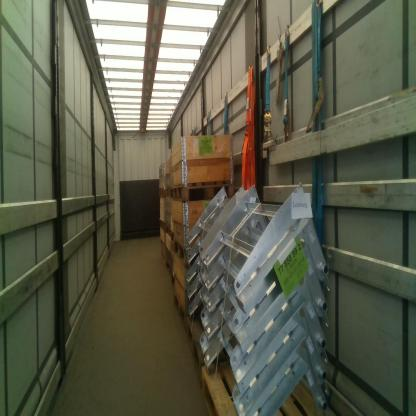pallet: (200, 362, 331, 415), (171, 180, 233, 203), (187, 316, 203, 370), (173, 292, 186, 324), (174, 239, 186, 266), (164, 187, 179, 201), (170, 269, 175, 291), (164, 224, 170, 242), (165, 259, 170, 278), (159, 221, 166, 232), (158, 188, 166, 197), (160, 251, 166, 263), (171, 232, 174, 249)
